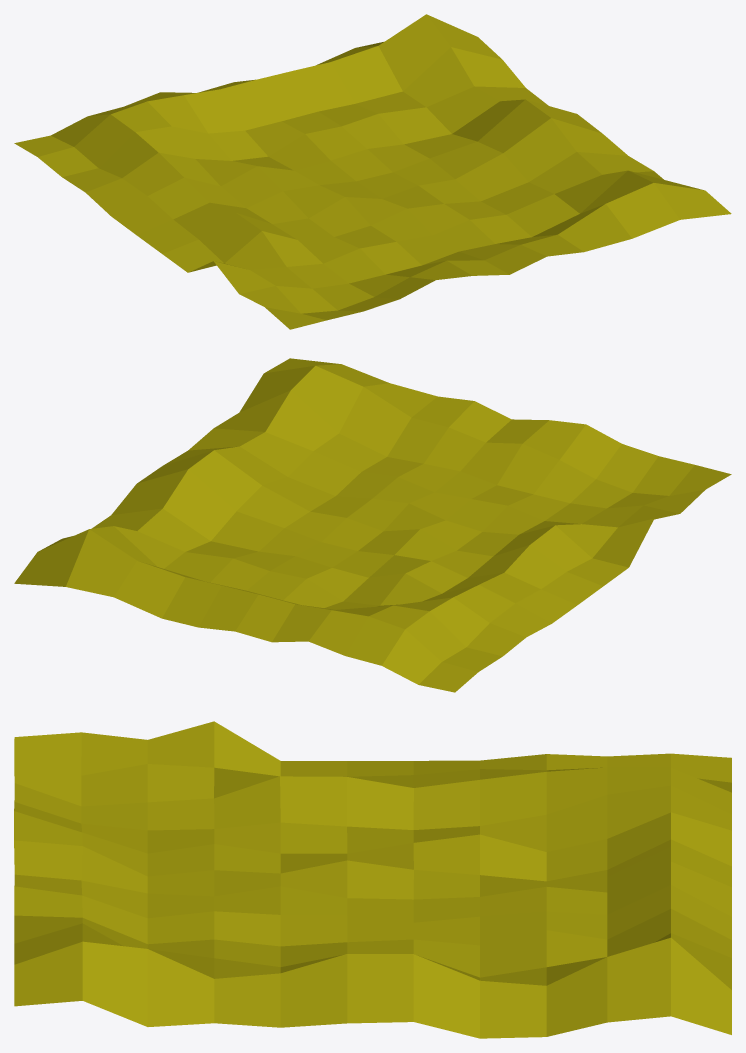
The model's file is sand.fbx.
3 renders of one model, top to bottom at view 1: azimuth 30°, elevation 25°; view 2: azimuth 150°, elevation 25°; view 3: azimuth 270°, elevation 25°, orthographic. The views are drawn at different scales.
Parts seen in each view (by area): view 1: Plane; view 2: Plane; view 3: Plane.
Boxes of the visible parts, x1,y1,x2,y2 form: Plane: (14, 14, 731, 329); Plane: (14, 358, 731, 692); Plane: (14, 721, 731, 1038).
Bounding box in the file's own units: 5427 × 671 × 5886.
